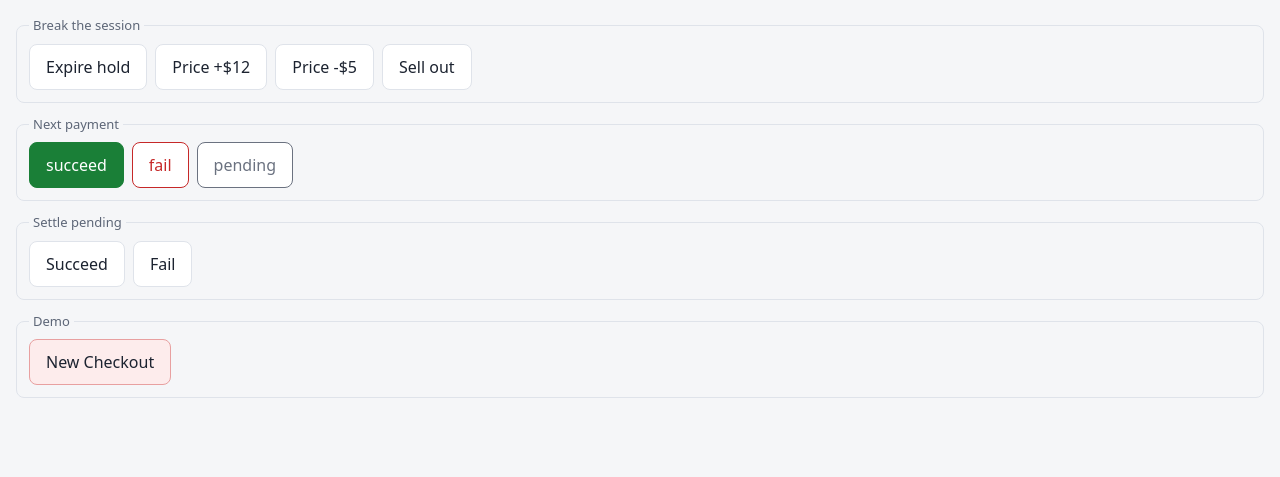
Scenario: ChaosPanel › says so when the server cannot be reached
Click the button with test id "chaos-expire" at (88, 66), box [29, 44, 147, 90]
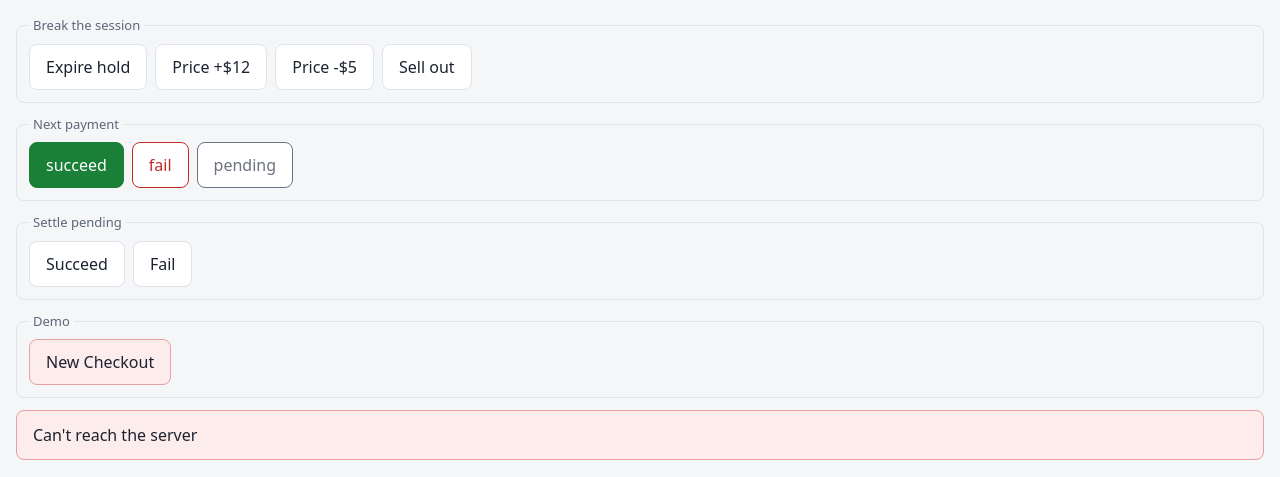
Now the message with test id "chaos-result" reads "Can't reach the server", box [33, 424, 197, 446]
